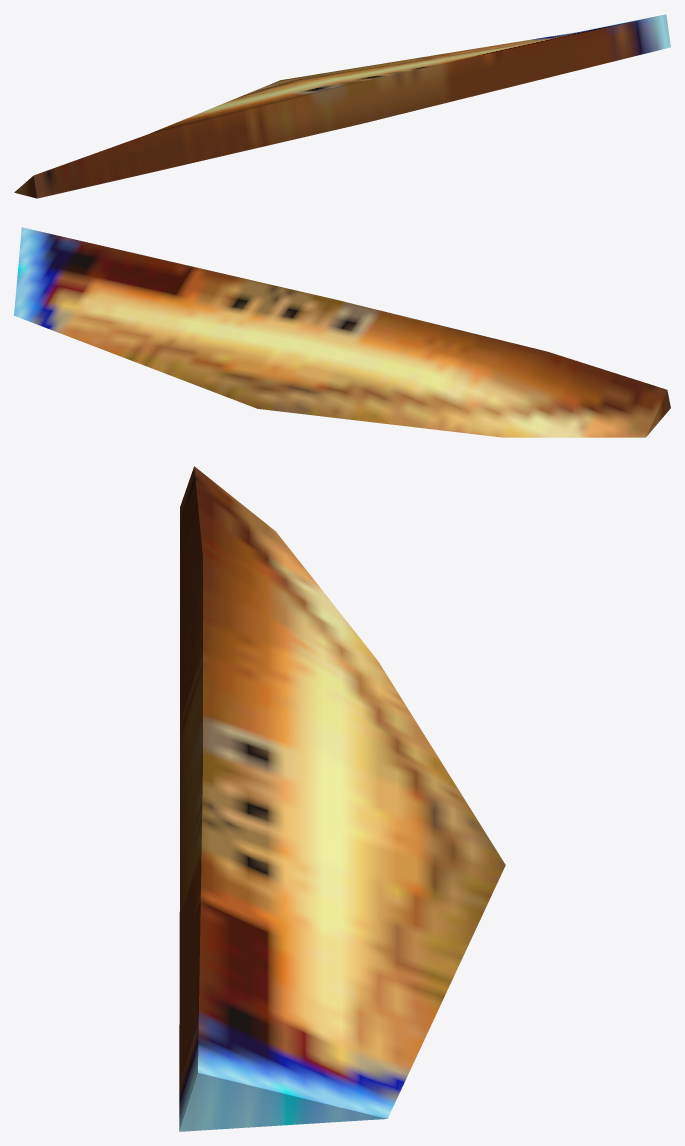
3 renders of one model, top to bottom at view 1: azimuth 30°, elevation 25°; view 2: azimuth 150°, elevation 25°; view 3: azimuth 270°, elevation 25°, orthographic. The views are drawn at different scales.
Visible parts, largest first — view 1: aw207; view 2: aw207; view 3: aw207.
Part boxes in pixels (x1,y1,x2,y2): aw207: (14, 14, 670, 198); aw207: (14, 227, 670, 437); aw207: (179, 466, 505, 1131).
Size of the model in its own units: 17.62 by 1.4 by 3.93.
Materials: 1 (1 with a texture image).
